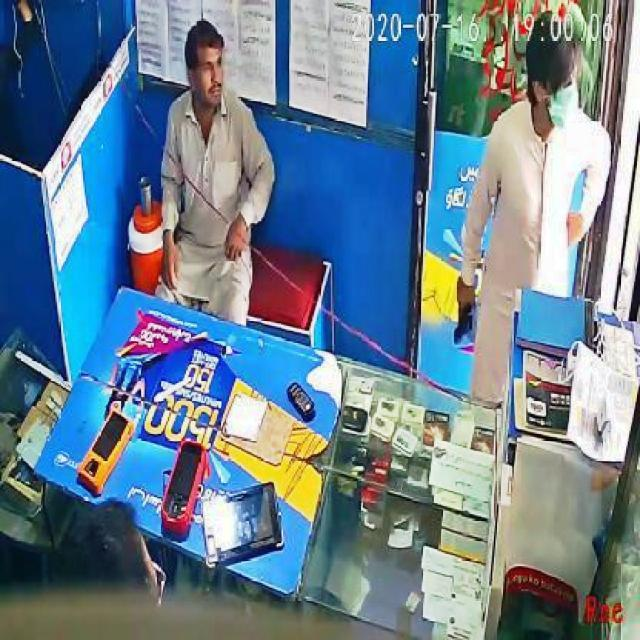Gun: (451, 281, 484, 347)
